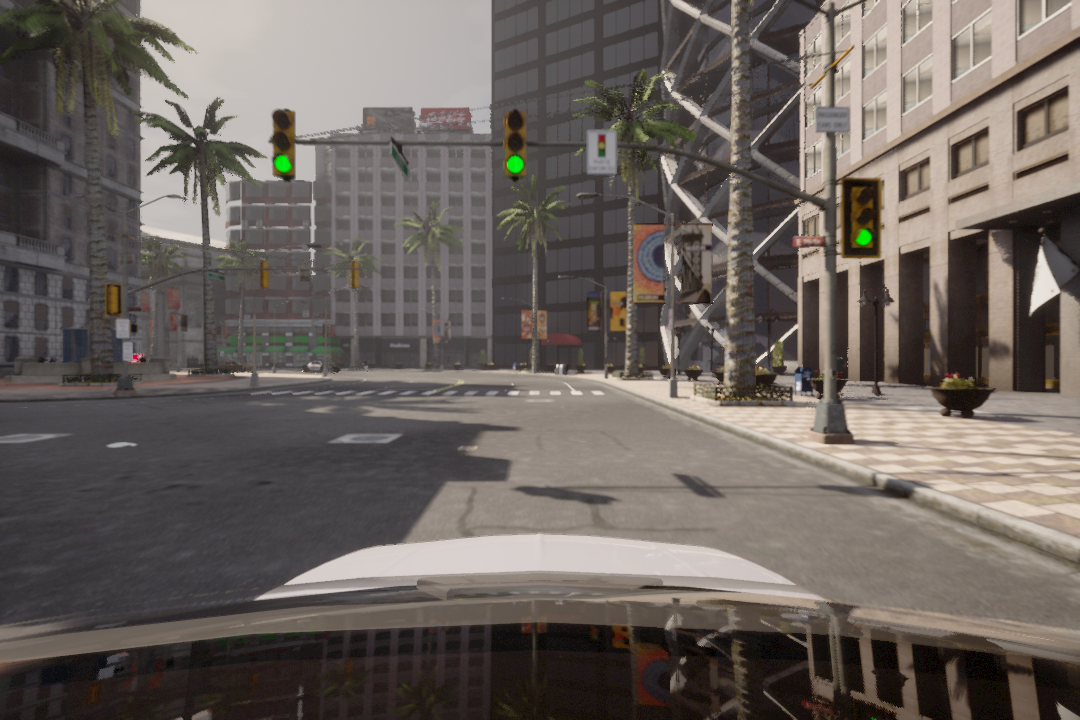TrafficLight: (846, 180, 880, 254), (268, 107, 299, 180), (499, 111, 531, 177)
walkside: (250, 387, 614, 399)
